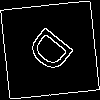D: (25, 25, 83, 82)
